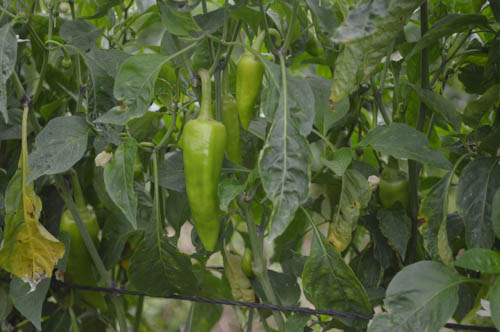ChiliPepper: (181, 120, 224, 254), (61, 212, 106, 313), (235, 50, 260, 129), (212, 98, 242, 162), (374, 178, 411, 224)
